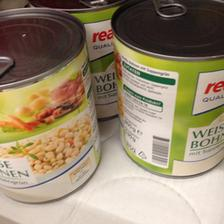Bohnen: (0, 6, 98, 202)
